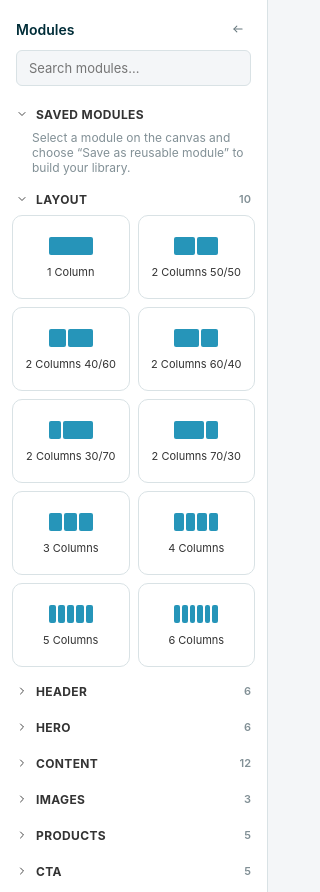
Test case: ModulePanel — compact accordion browsing › search replaces the accordion with a flat result list
Type "image left" into the search field labelled "Search modules" at (134, 68), box [16,50,251,86]
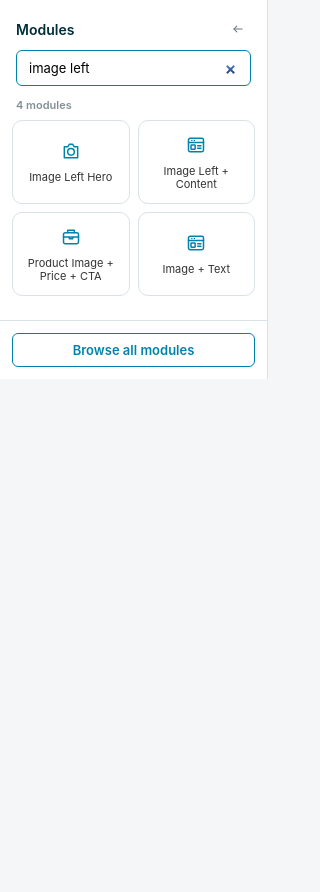
Now the button "Layout" is gone
Now the button with aria-label "Add Image Left Hero" is shown, box [12,120,130,204]
Now the button with aria-label "Add Image Left + Content" is shown, box [138,120,255,204]
